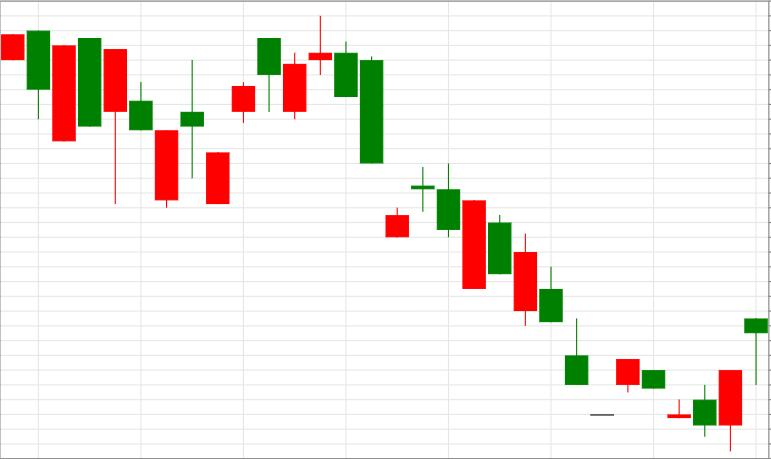bullish_engulfing_rise: (489, 214, 742, 452)
